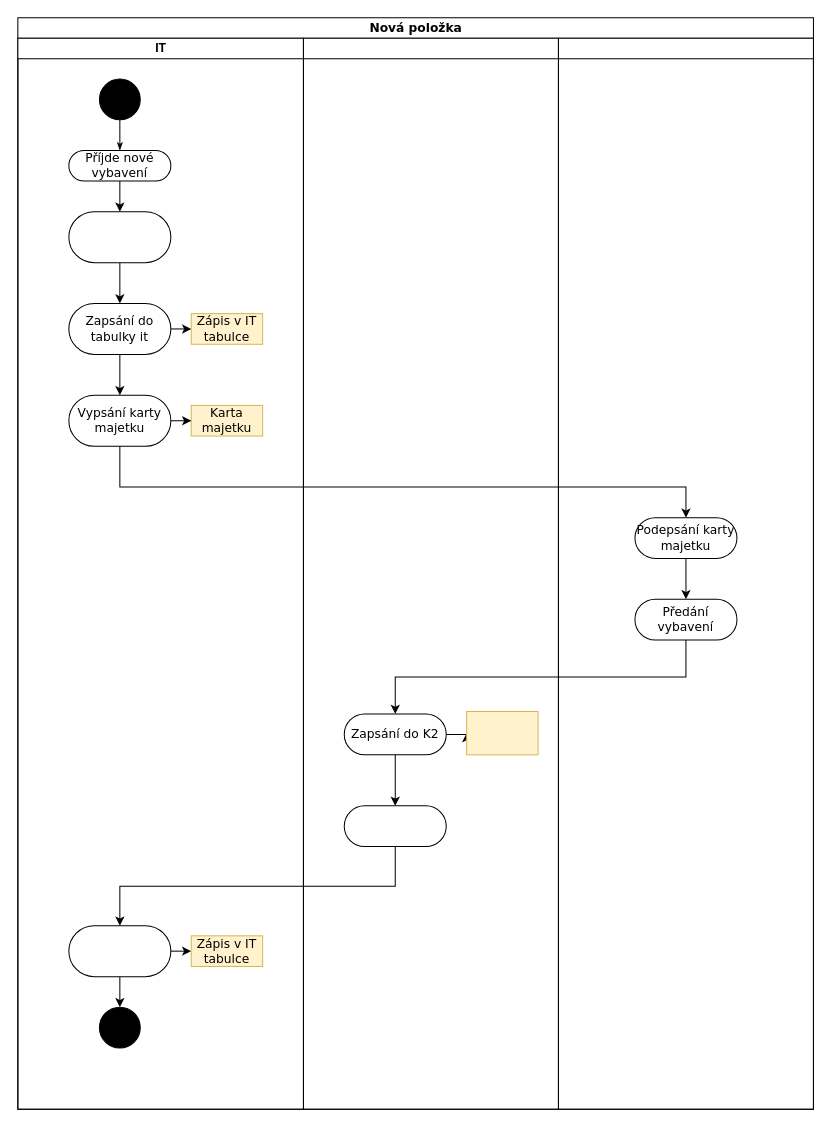
Some shapes in this 831 by 1127 pixel diagram are drawn without their labels. The box of each missing label's shape, as (x1, y1, x2, y2) in pixels:
Dojde k základnímu nastavení: (68, 211, 171, 263)
Doplnění DH: (68, 925, 171, 977)
Karta majetku v K2: (466, 710, 538, 755)
Vytvoření DH: (343, 805, 446, 847)
Zaměstnanec: (557, 37, 813, 1109)
Účtárna: (302, 37, 558, 1109)
